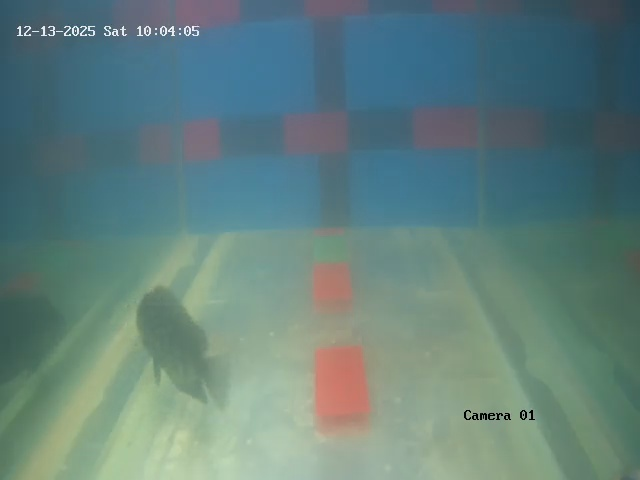fish: (133, 287, 216, 393)
